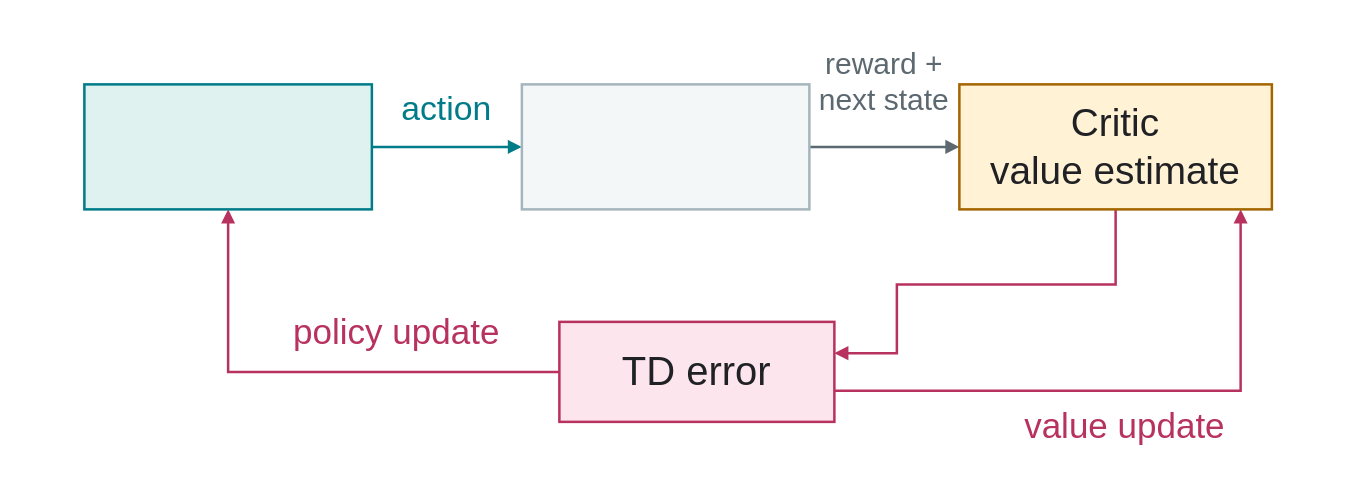
This 1355x480 diagram has some shape labels left out. Here are the shapes that lost their labels. From the top down, the centre of each, then its label:
At (x=227, y=146): "Actor policy".
At (x=665, y=146): "Environment".
